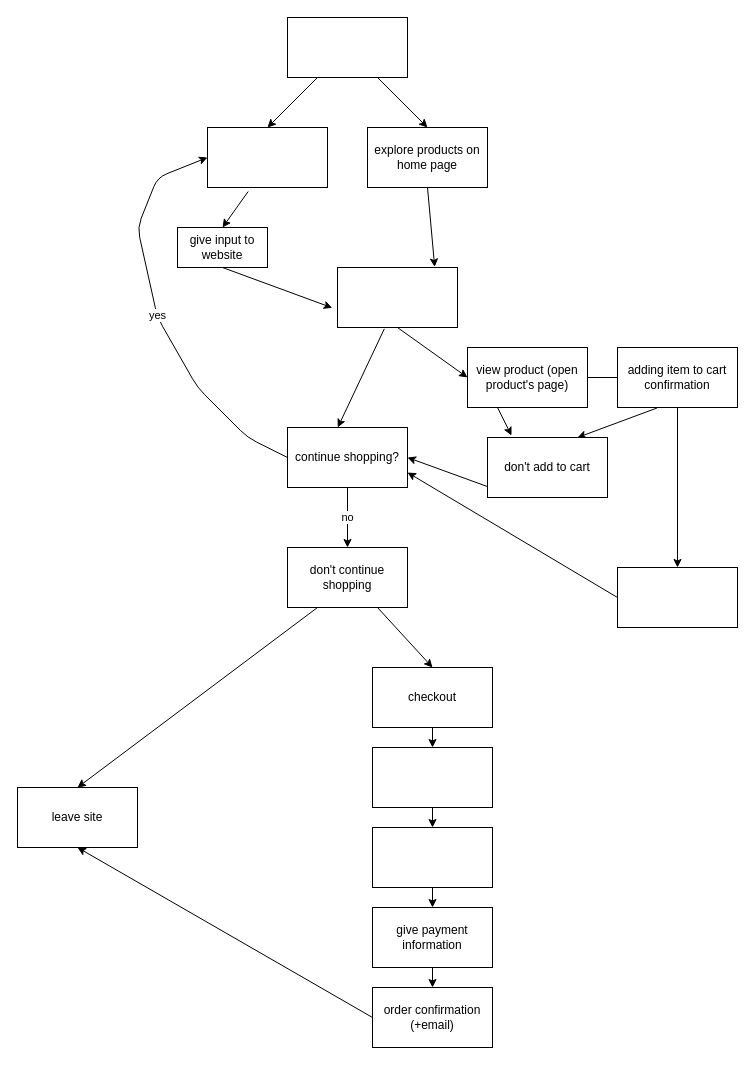
The diagram is 755 pixels wide and 1065 high, and some of its shapes have lost their labels. The box of each missing label's shape, as (x1, y1, x2, y2) in pixels:
add to cart: (616, 566, 738, 628)
look over product options: (336, 266, 458, 328)
search for a product: (206, 126, 328, 188)
user enters website: (286, 16, 408, 78)
view cart: (372, 746, 492, 808)
view payment: (372, 826, 492, 888)
